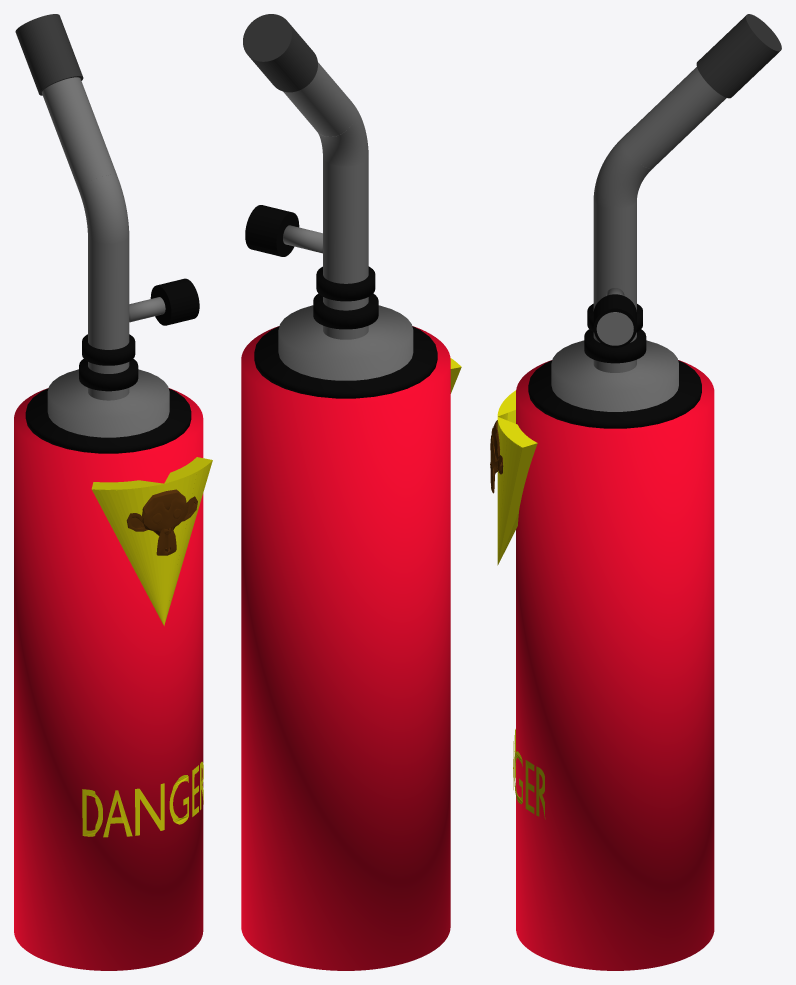
File: BLOWTORCHblend.fbx
The picture shows the model from 3 angles, left to right: view 1: azimuth 30°, elevation 25°; view 2: azimuth 150°, elevation 25°; view 3: azimuth 270°, elevation 25°; orthographic projection. The views are drawn at different scales.
Parts seen in each view (by area): view 1: Cylinder, Cylinder.009, Cone, Cylinder.001, Cylinder.010, Cylinder.002, Cylinder.003, Text, Suzanne, Cylinder.007, Cylinder.004, Cylinder.005 (+1 smaller); view 2: Cylinder, Cylinder.009, Cylinder.001, Cylinder.002, Cylinder.003, Cylinder.010, Cylinder.007, Cylinder.004, Cylinder.005, Cylinder.006; view 3: Cylinder, Cylinder.009, Cylinder.001, Cylinder.010, Cylinder.002, Cylinder.003, Cone, Cylinder.004, Cylinder.007, Cylinder.008, Text.
Boxes of the visible parts, <box> form: Cylinder: <box>14,388,203,970</box>; Cylinder.009: <box>78,174,129,400</box>; Cone: <box>91,457,212,625</box>; Cylinder.001: <box>47,369,169,437</box>; Cylinder.010: <box>42,77,116,188</box>; Cylinder.002: <box>25,388,191,453</box>; Cylinder.003: <box>15,14,83,95</box>; Text: <box>82,761,203,837</box>; Suzanne: <box>126,489,197,555</box>; Cylinder.007: <box>150,278,199,325</box>; Cylinder.004: <box>79,359,138,391</box>; Cylinder.005: <box>82,334,135,365</box>; Cylinder: <box>241,326,450,970</box>; Cylinder.009: <box>317,104,368,339</box>; Cylinder.001: <box>278,305,413,380</box>; Cylinder.002: <box>254,326,437,398</box>; Cylinder.003: <box>243,14,317,92</box>; Cylinder.010: <box>283,62,355,136</box>; Cylinder.007: <box>245,205,299,256</box>; Cylinder.004: <box>313,293,378,329</box>; Cylinder.005: <box>316,266,375,301</box>; Cylinder.006: <box>283,225,322,253</box>; Cylinder: <box>516,360,714,970</box>; Cylinder.009: <box>593,138,651,372</box>; Cylinder.001: <box>551,340,678,411</box>; Cylinder.010: <box>621,67,726,168</box>; Cylinder.002: <box>528,360,701,428</box>; Cylinder.003: <box>696,14,781,98</box>; Cone: <box>497,390,537,565</box>; Cylinder.004: <box>584,329,646,363</box>; Cylinder.007: <box>593,294,636,347</box>; Cylinder.008: <box>596,312,633,345</box>; Text: <box>513,729,545,819</box>.
Size of the model in its own units: 64.04 by 325 by 94.13.
